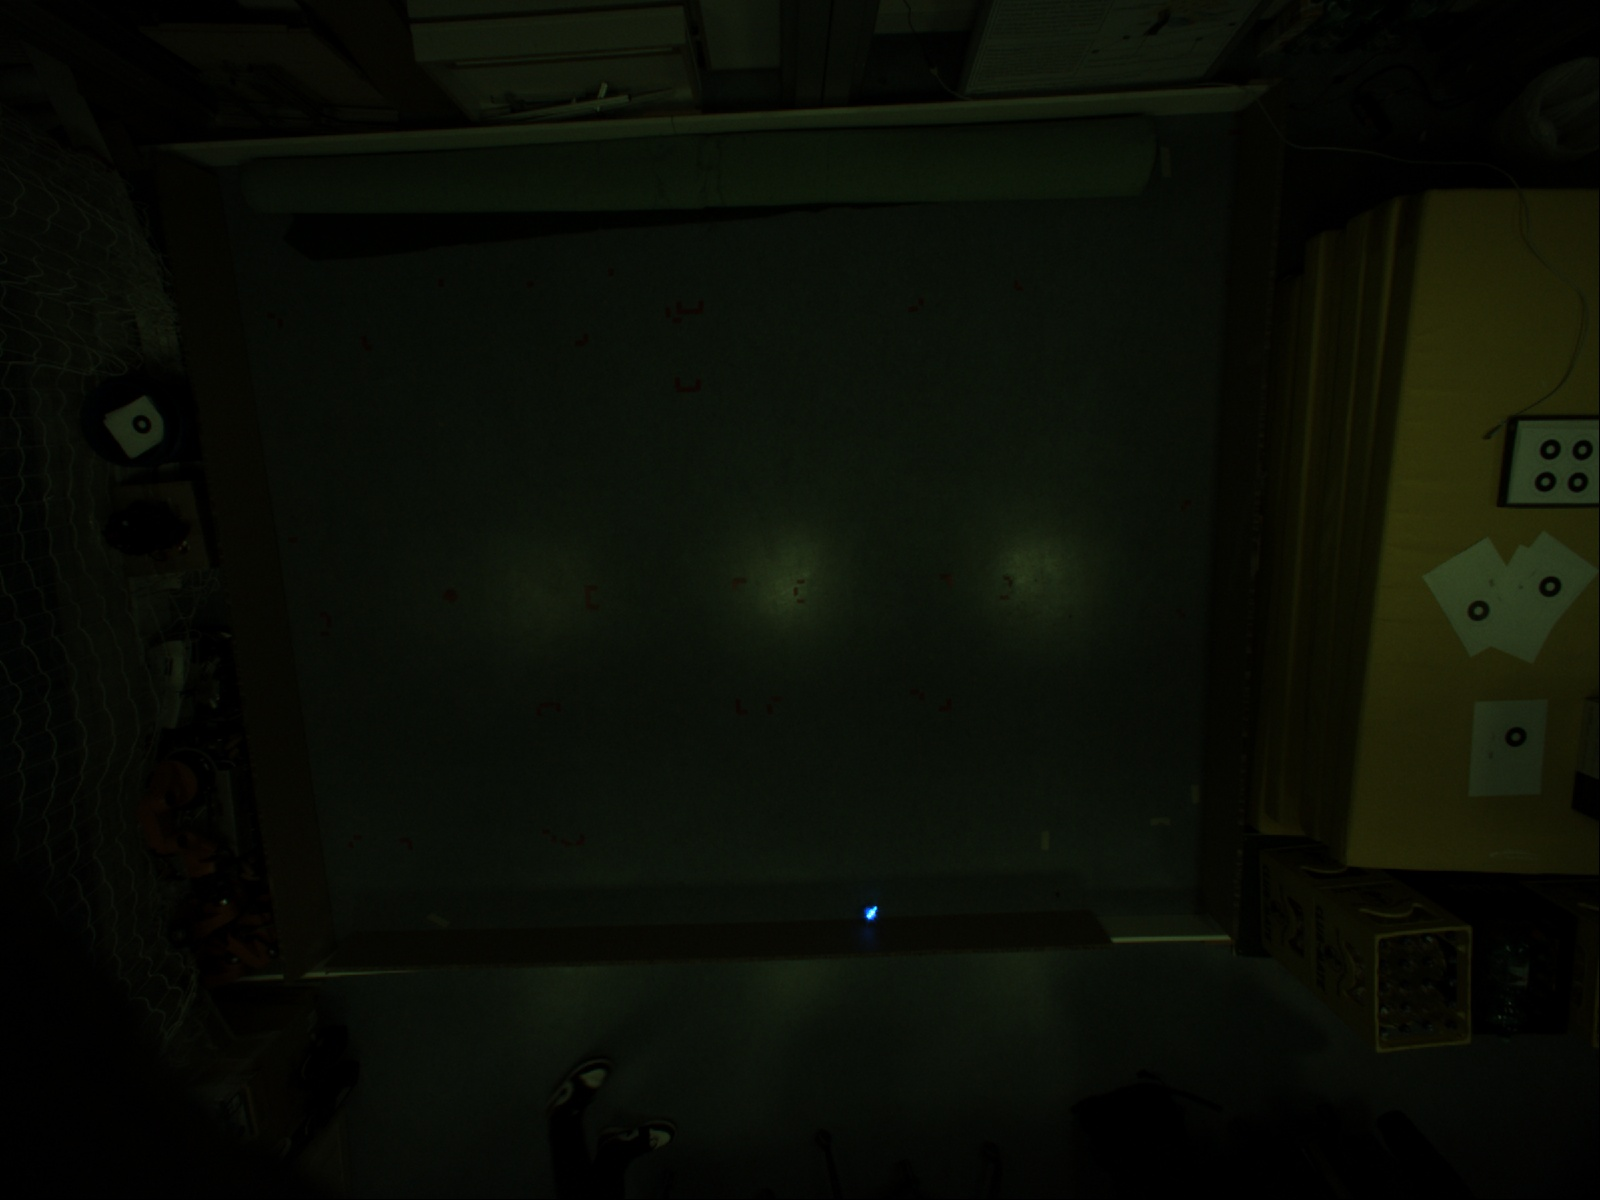sphero: (858, 900, 884, 926)
